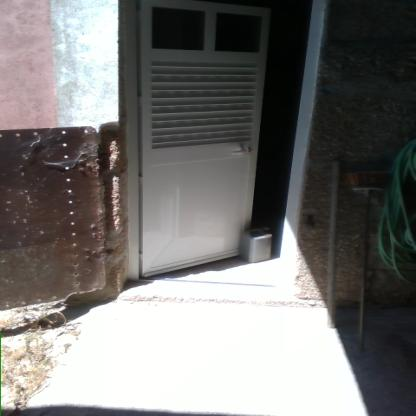semi: (114, 1, 326, 306)
